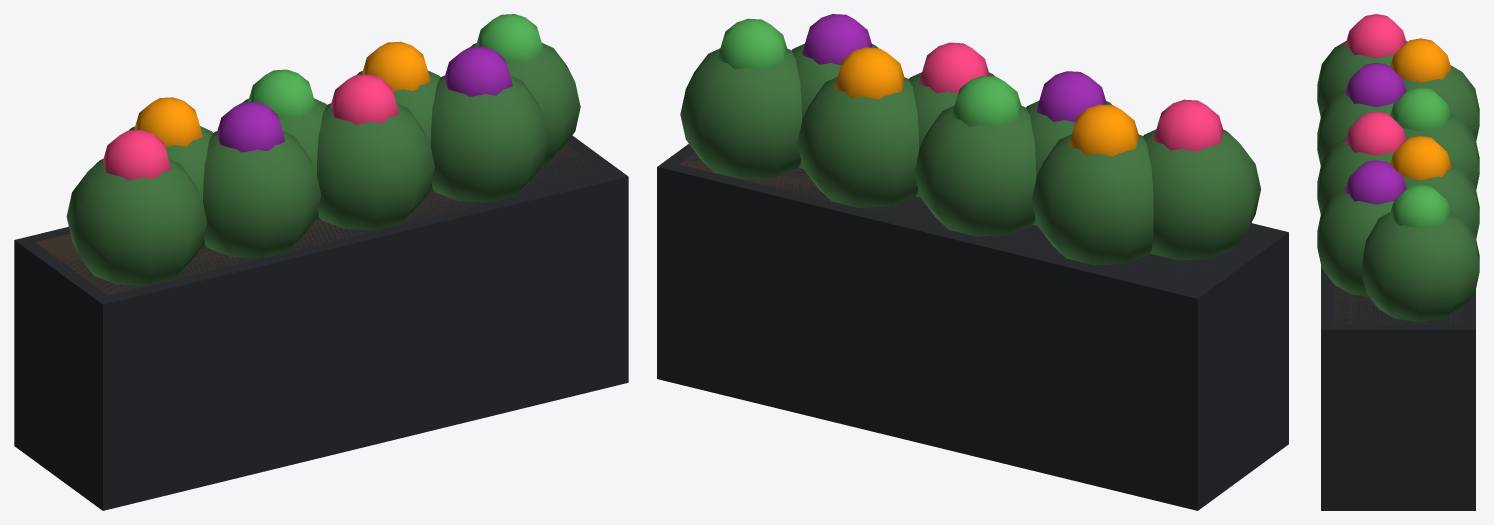
Rendered from archviz_balcony_planter_box.glb.
3 views of the same model, side by side, from view 1: azimuth 30°, elevation 25°; view 2: azimuth 150°, elevation 25°; view 3: azimuth 270°, elevation 25° (orthographic). The views are drawn at different scales.
Size of the model in its own units: 1.2 by 0.74 by 0.3663.
